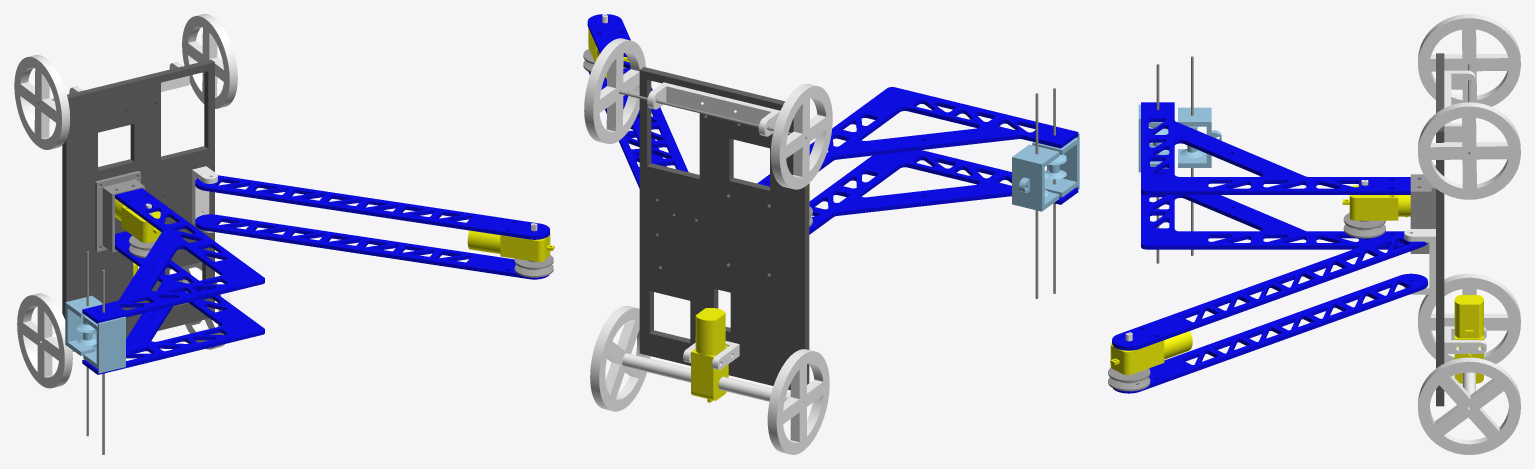
The model's file is FINAL_-_Crane_-The_Rock-_Johnson_colorfix.glb.
The picture shows the model from 3 angles, left to right: view 1: azimuth 30°, elevation 25°; view 2: azimuth 150°, elevation 25°; view 3: azimuth 270°, elevation 25°; orthographic projection. The views are drawn at different scales.
Visible parts, largest first — view 1: Part 1 (×16); view 2: Part 1 (×16); view 3: Part 1 (×19).
Boxes of the visible parts, left/top/right/bottom form: Part 1 (×16): left=14, top=14, right=554, bottom=388; Part 1 (×16): left=584, top=14, right=1079, bottom=454; Part 1 (×19): left=1108, top=14, right=1520, bottom=454.
Size of the model in its own units: 0.4205 by 0.2921 by 0.3111.
